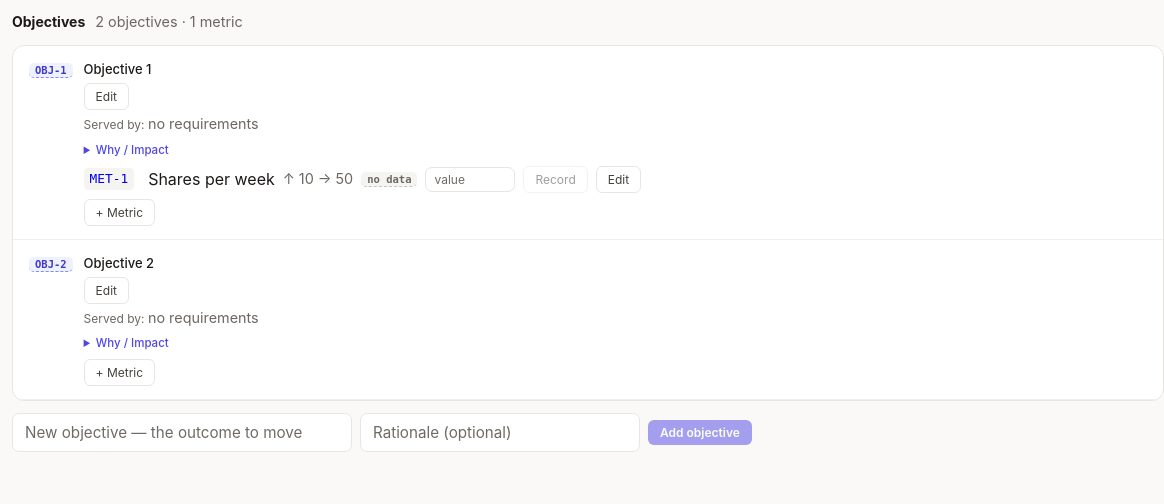
Test case: ObjectivesSection metric edit form › shows a command field only for a command source
Click the button with aria-label "Edit MET-1".
click(618, 179)  # box left=596, top=166, right=641, bottom=193
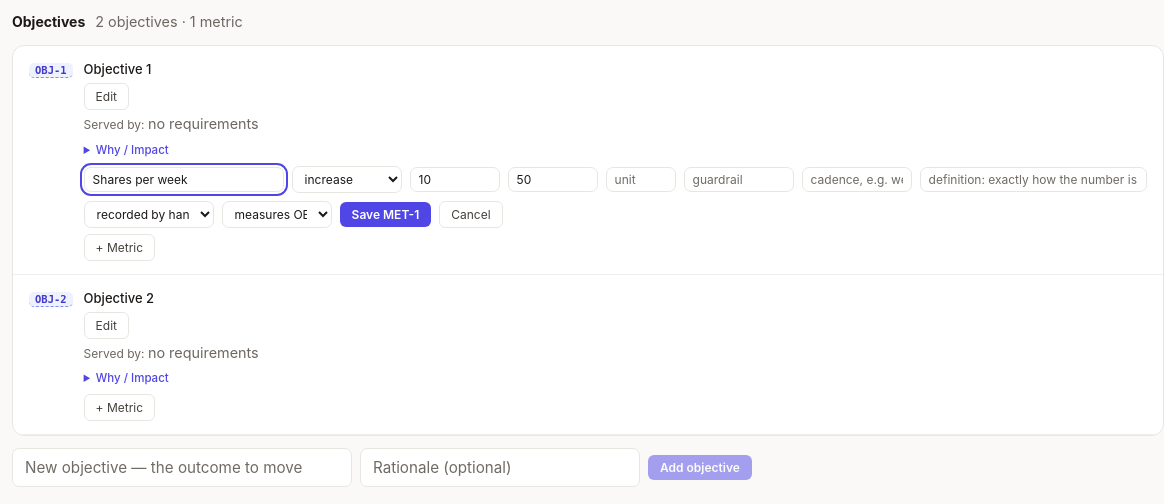
Select "command" in the dropdown named "MET-1 source" at (149, 214), box left=84, top=201, right=214, bottom=228
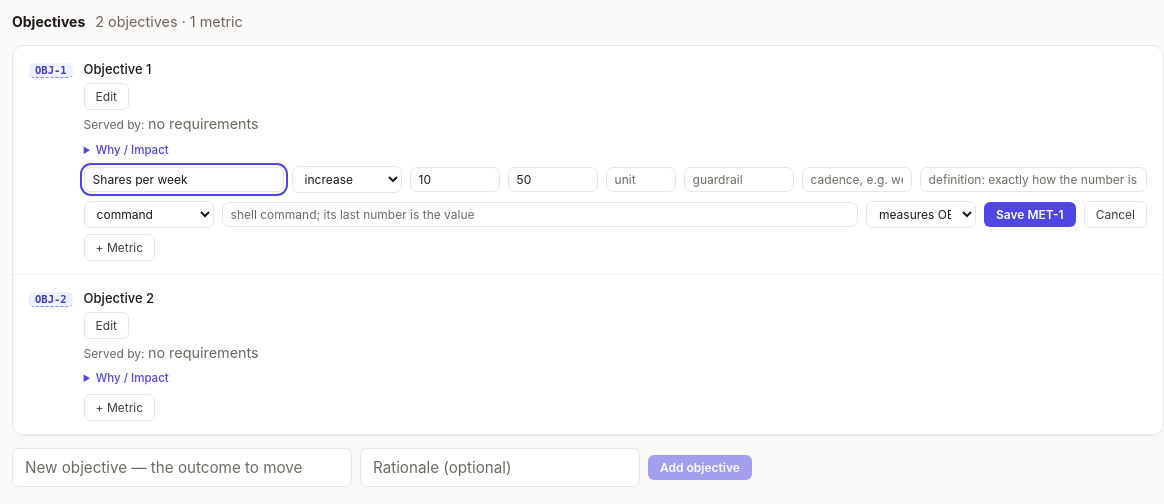
expect the field named "MET-1 source command" is shown: met, box left=222, top=202, right=858, bottom=227
